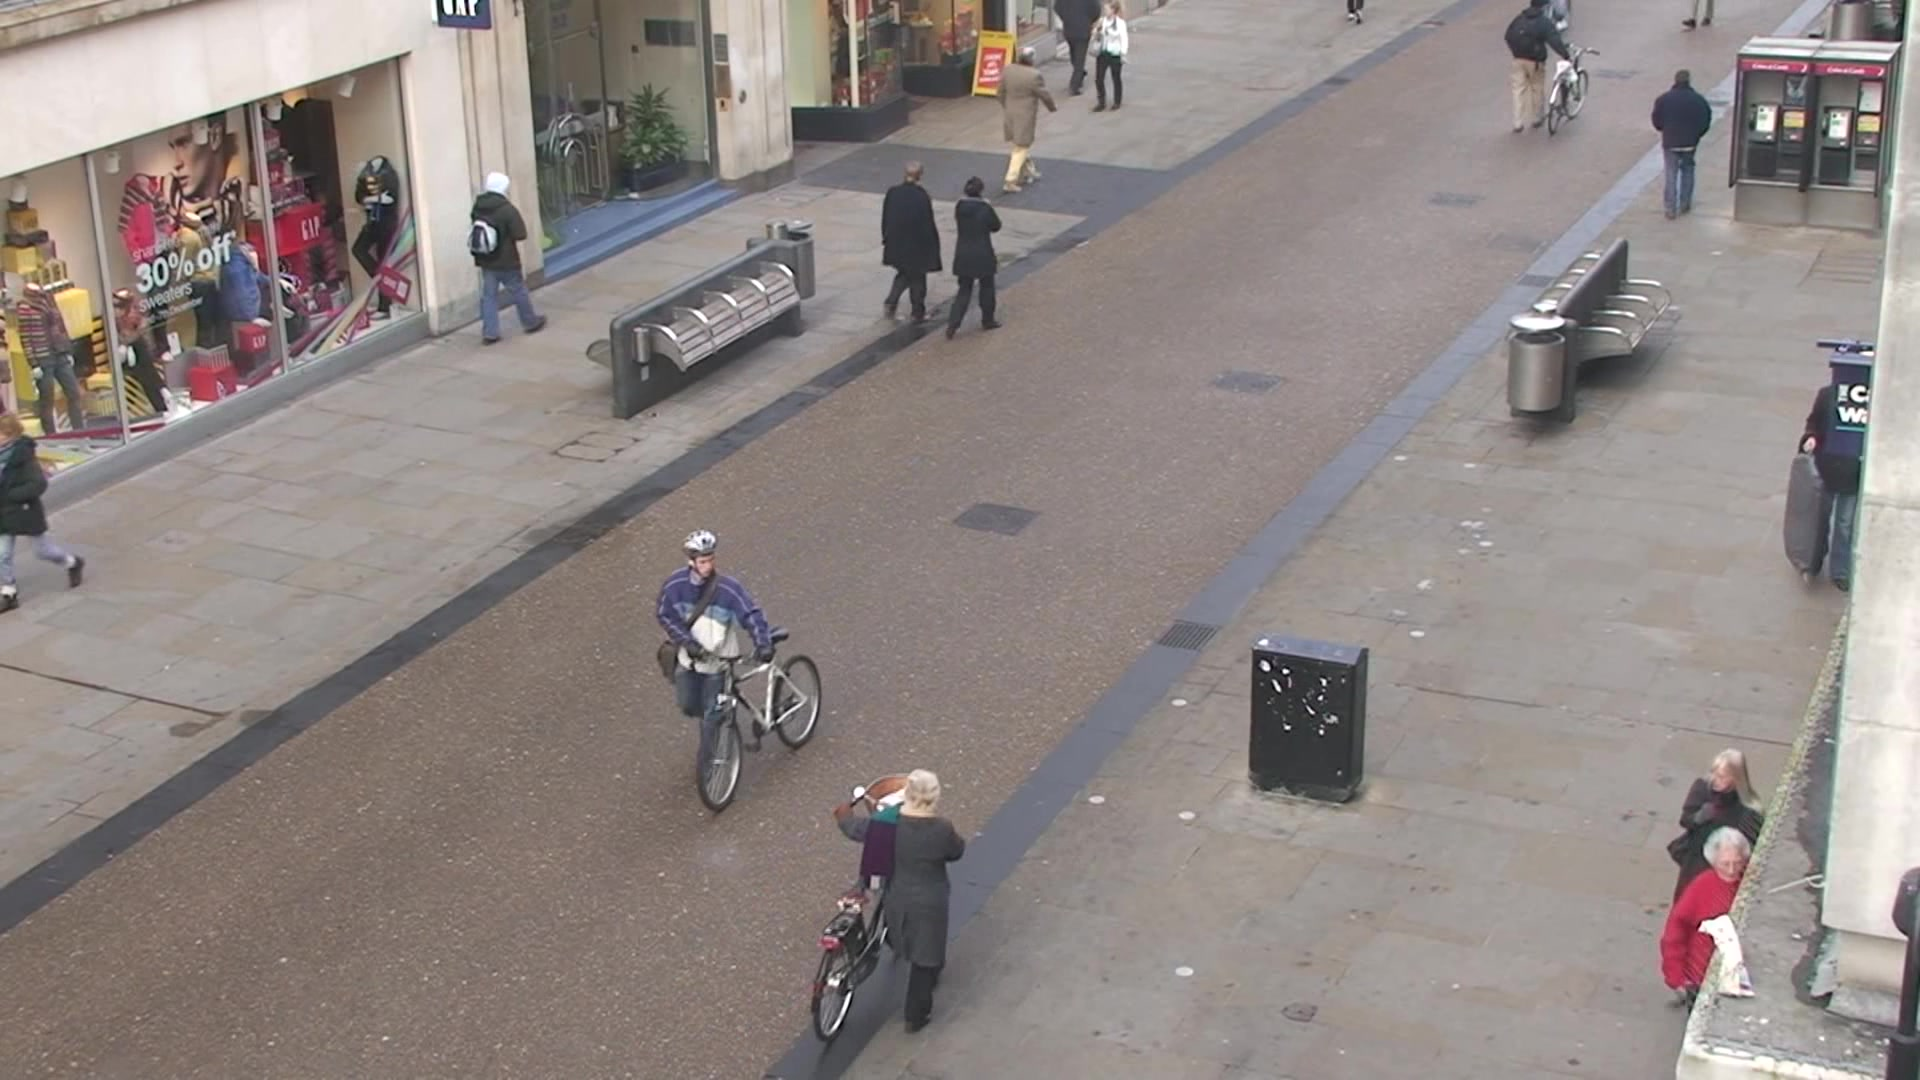person: (834, 766, 968, 1039), (657, 527, 777, 777), (466, 171, 550, 347), (882, 160, 943, 325), (996, 48, 1059, 199), (946, 179, 1004, 340), (1651, 69, 1713, 219), (1505, 1, 1571, 138), (1091, 1, 1130, 115)
